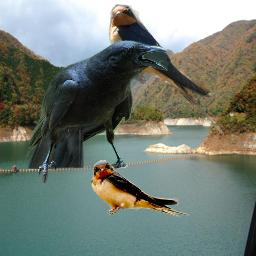Crow: (24, 40, 168, 183)
Swallow: (108, 4, 225, 136), (90, 160, 189, 221)
